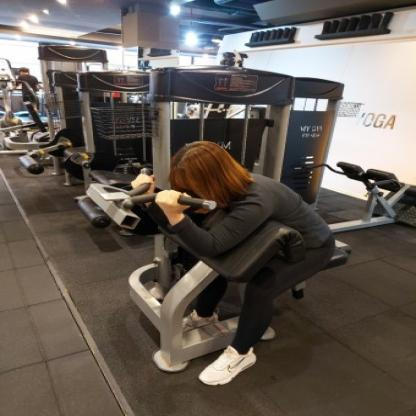arm curl machine: (123, 167, 353, 372)
